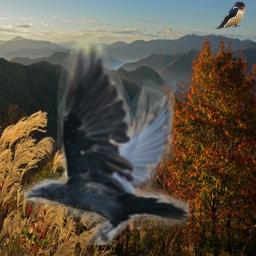Crow: (21, 37, 190, 245)
Swallow: (215, 1, 247, 29)
